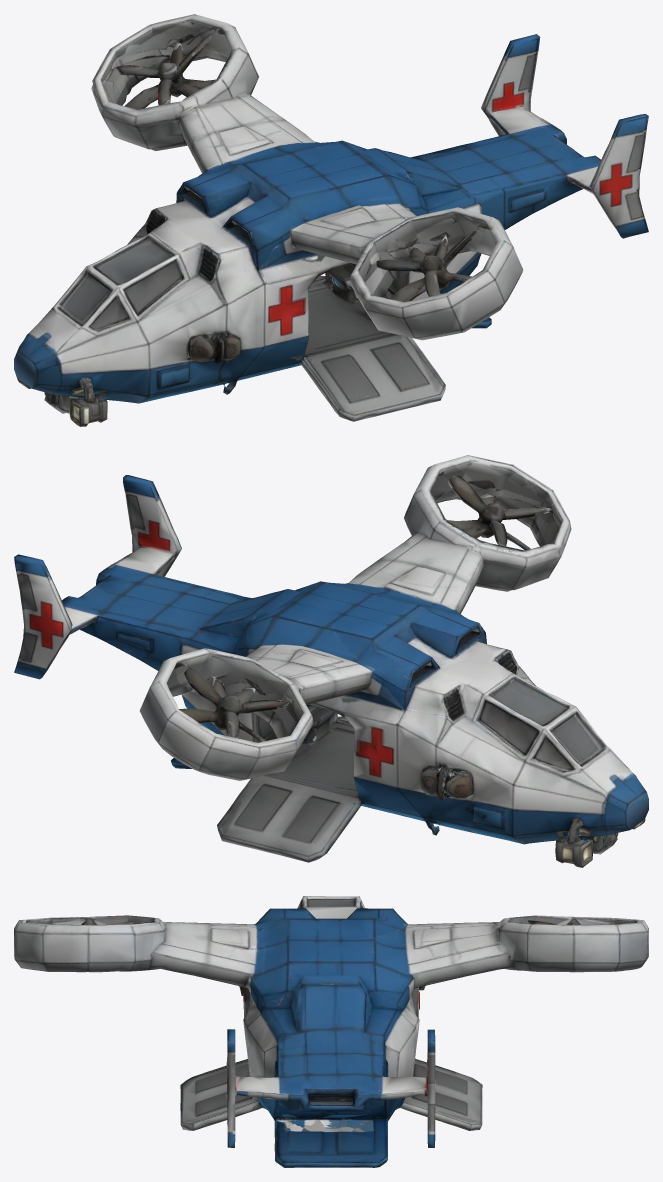
Rendered from lifter.glb.
The picture shows the model from 3 angles, top to bottom: view 1: azimuth 30°, elevation 25°; view 2: azimuth 150°, elevation 25°; view 3: azimuth 270°, elevation 25°; orthographic projection. The views are drawn at different scales.
Visible parts, largest first — view 1: Mesh1.0; view 2: Mesh1.0; view 3: Mesh1.0.
Part boxes in pixels (left/top/right/bottom): Mesh1.0: left=14, top=14, right=648, bottom=426; Mesh1.0: left=14, top=455, right=648, bottom=867; Mesh1.0: left=14, top=896, right=648, bottom=1167.
Bounding box in the file's own units: 1.82 × 0.6782 × 1.91.
Materials: 1 (1 with a texture image).
